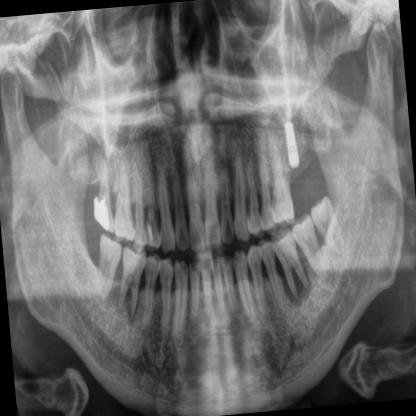ITI: (284, 120, 300, 168)
